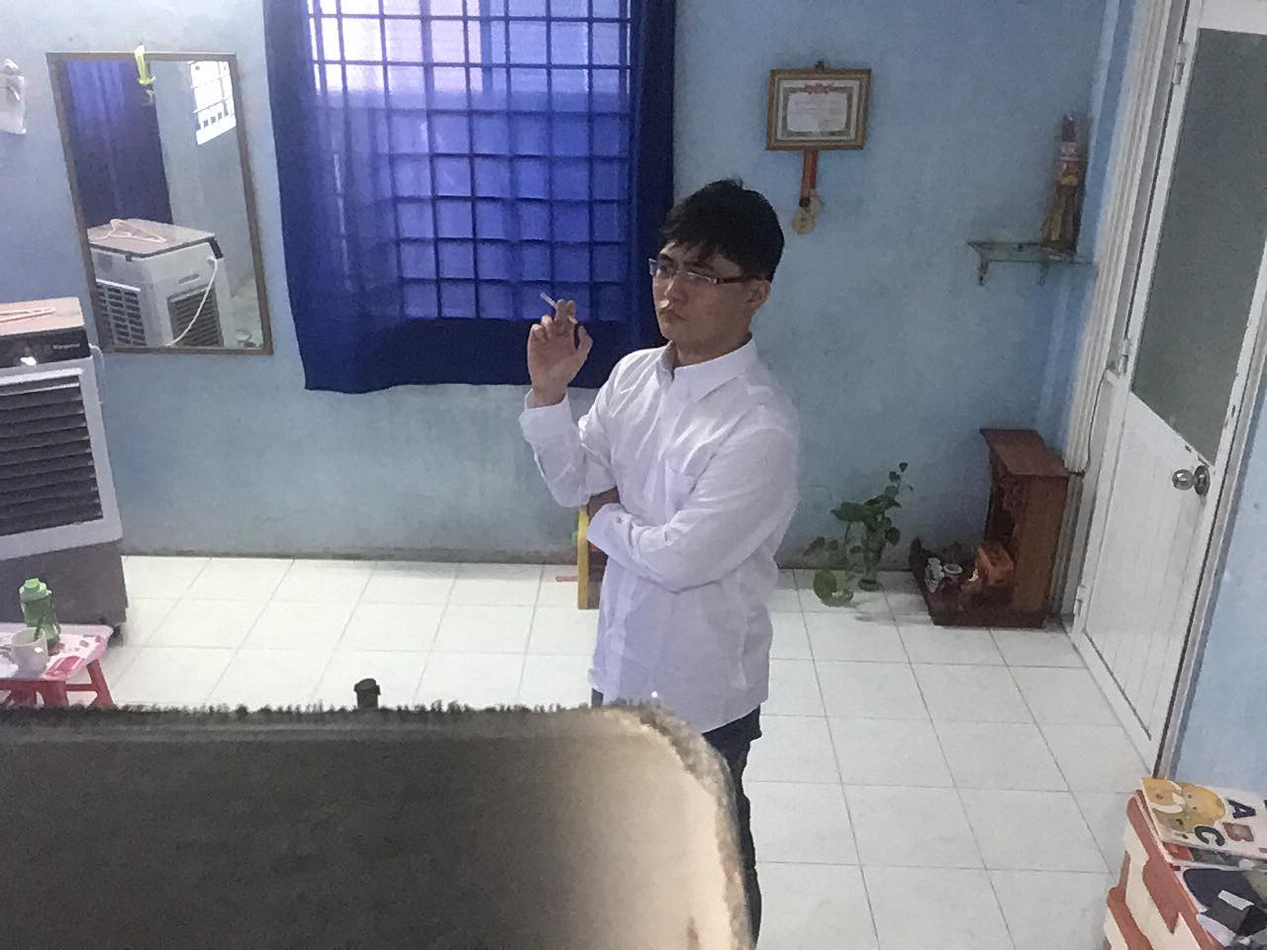cigarette: (536, 289, 588, 326)
person: (492, 170, 853, 884)
